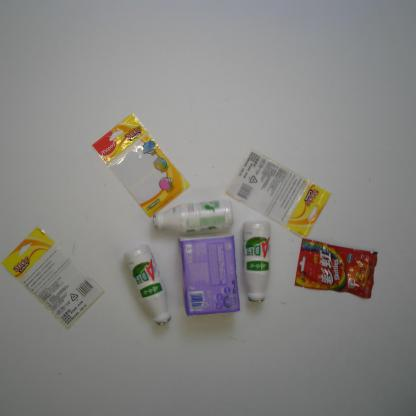Candy: (294, 238, 378, 300)
Milk: (124, 243, 172, 326), (153, 199, 234, 233), (242, 220, 272, 303)
Stationery: (1, 227, 105, 330), (91, 112, 191, 219), (226, 148, 332, 240)
Tissue: (178, 233, 240, 317)
